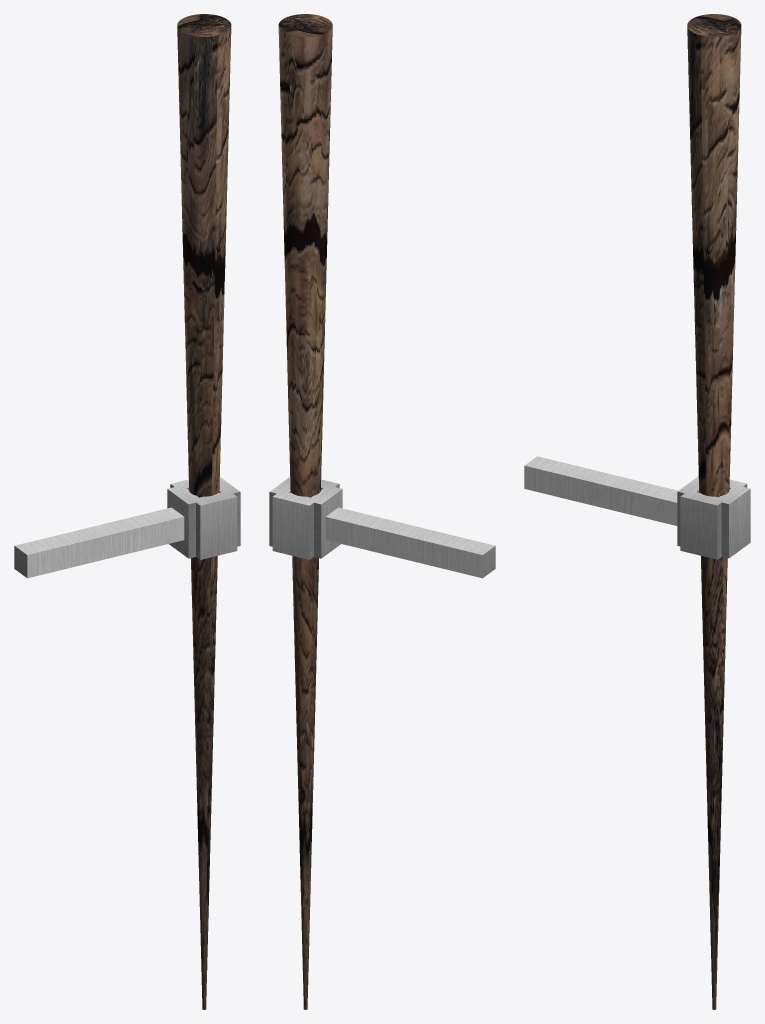
File: Antocha1.obj
The picture shows the model from 3 angles, left to right: view 1: azimuth 30°, elevation 25°; view 2: azimuth 150°, elevation 25°; view 3: azimuth 330°, elevation 25°; orthographic projection.
Visible parts, largest first — view 1: Antocha; view 2: Antocha; view 3: Antocha.
Part boxes in pixels (left/top/right/bottom): Antocha: left=14, top=14, right=240, bottom=1009; Antocha: left=269, top=14, right=495, bottom=1009; Antocha: left=524, top=14, right=750, bottom=1009.
Size of the model in its own units: 1.33 by 6 by 0.3308.
2 materials, 2 textured.
